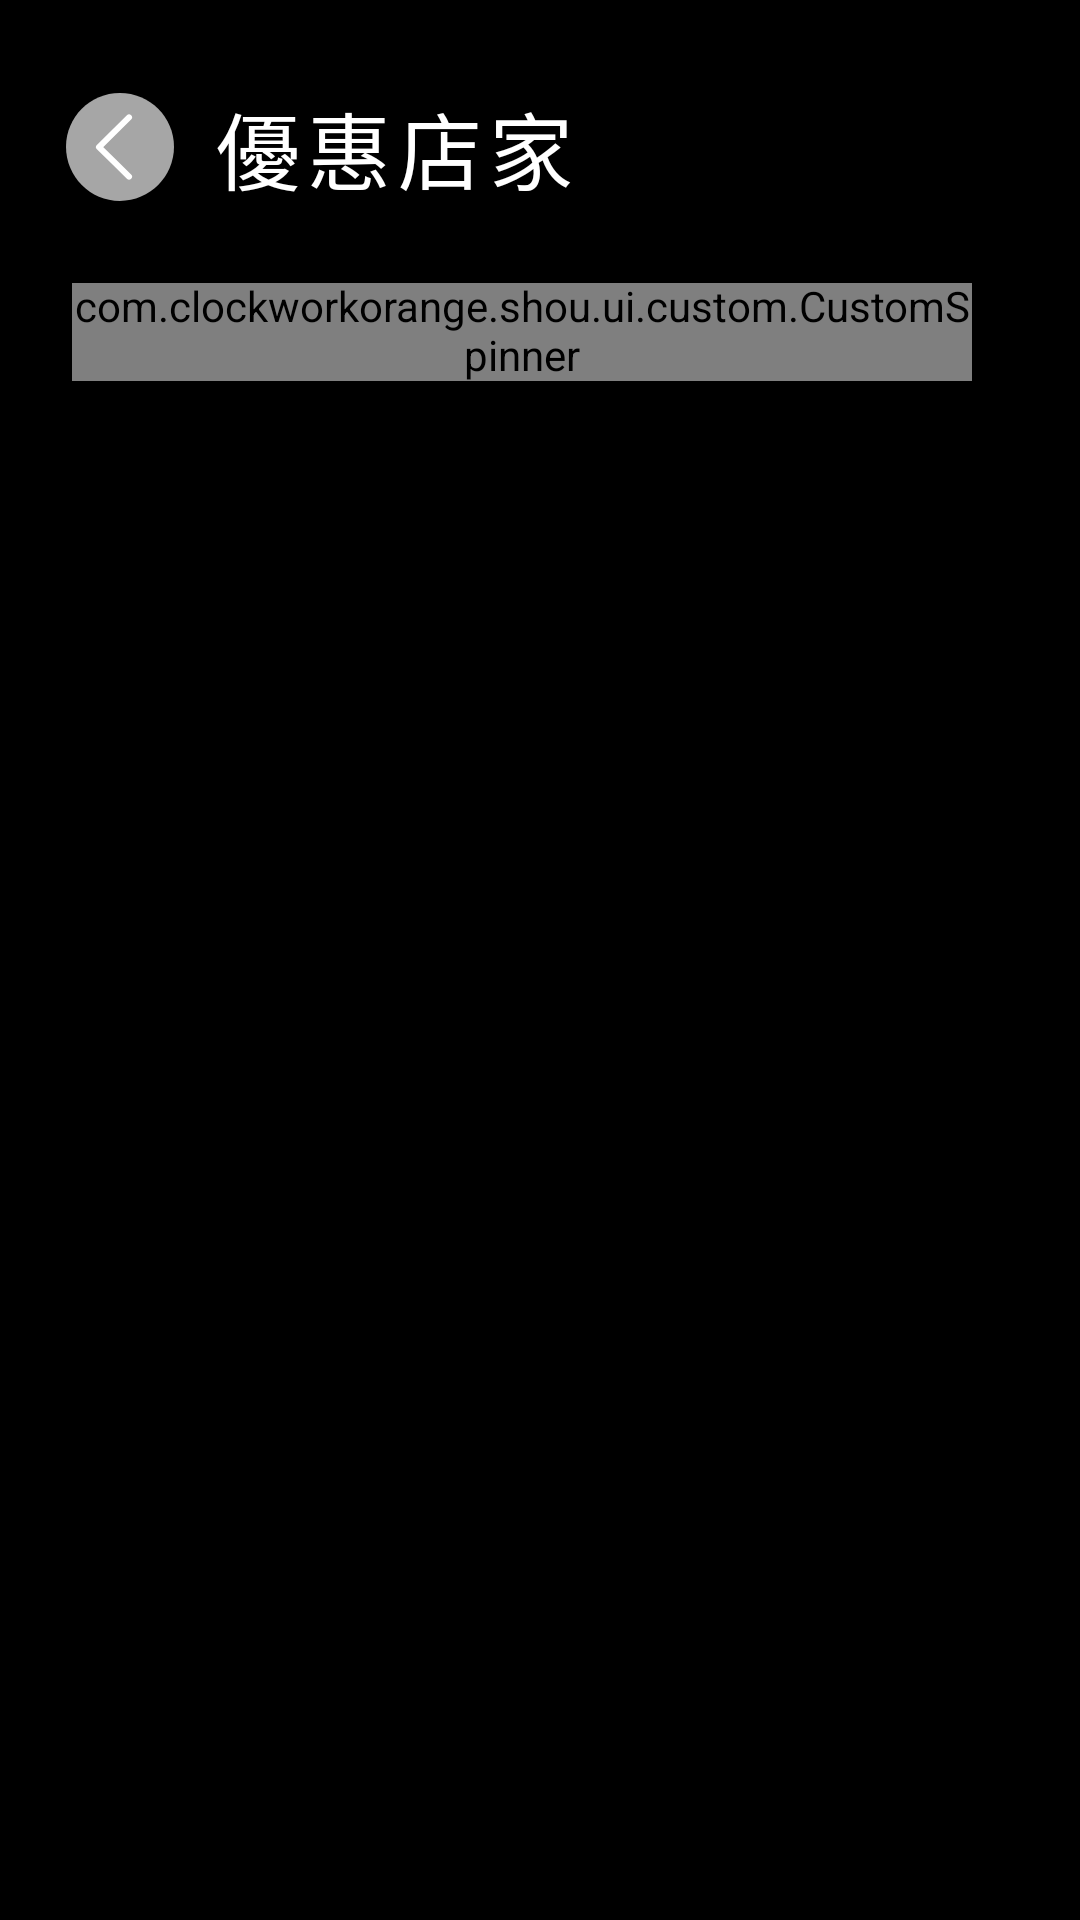

Named icons in this screenshot (1080*1920) and their centers, (x,y):
back: (120,147)
